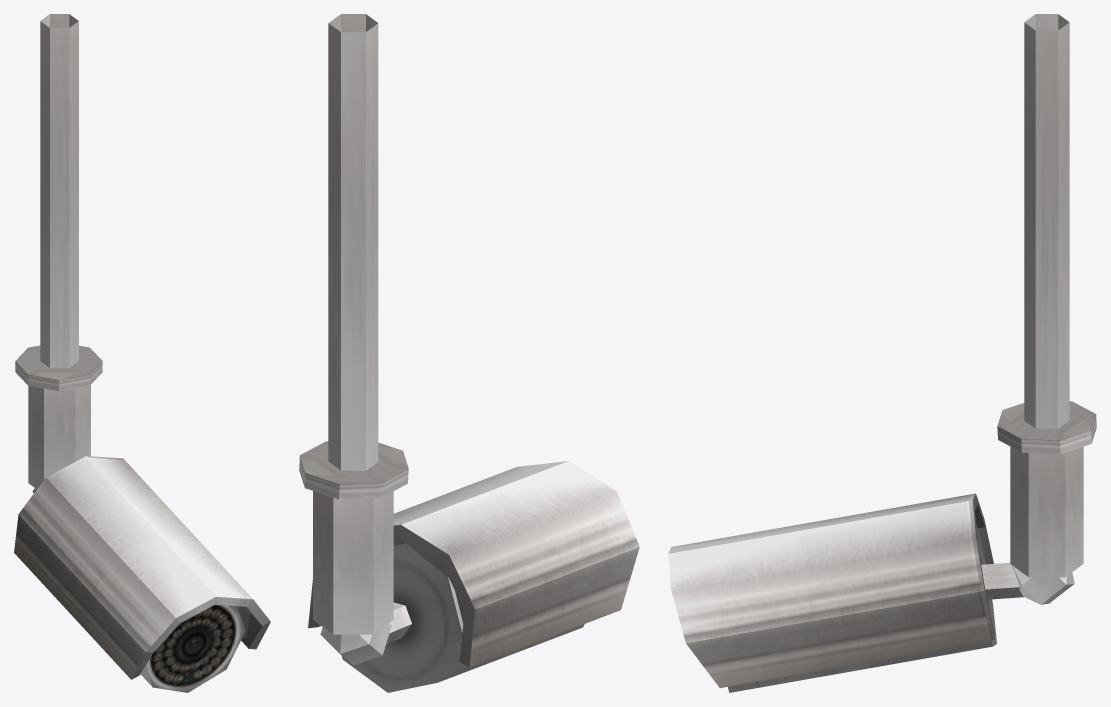
File: 摄像头1.obj
3 views of the same model, side by side, from view 1: azimuth 30°, elevation 25°; view 2: azimuth 150°, elevation 25°; view 3: azimuth 270°, elevation 25° (orthographic). The views are drawn at different scales.
Parts seen in each view (by area): view 1: Object27318; view 2: Object27318; view 3: Object27318.
Part boxes in pixels (bbox=[...]): Object27318: bbox=[14, 14, 270, 692]; Object27318: bbox=[299, 14, 639, 692]; Object27318: bbox=[668, 14, 1096, 692].
Size of the model in its own units: 0.3372 by 1.47 by 0.8537.
